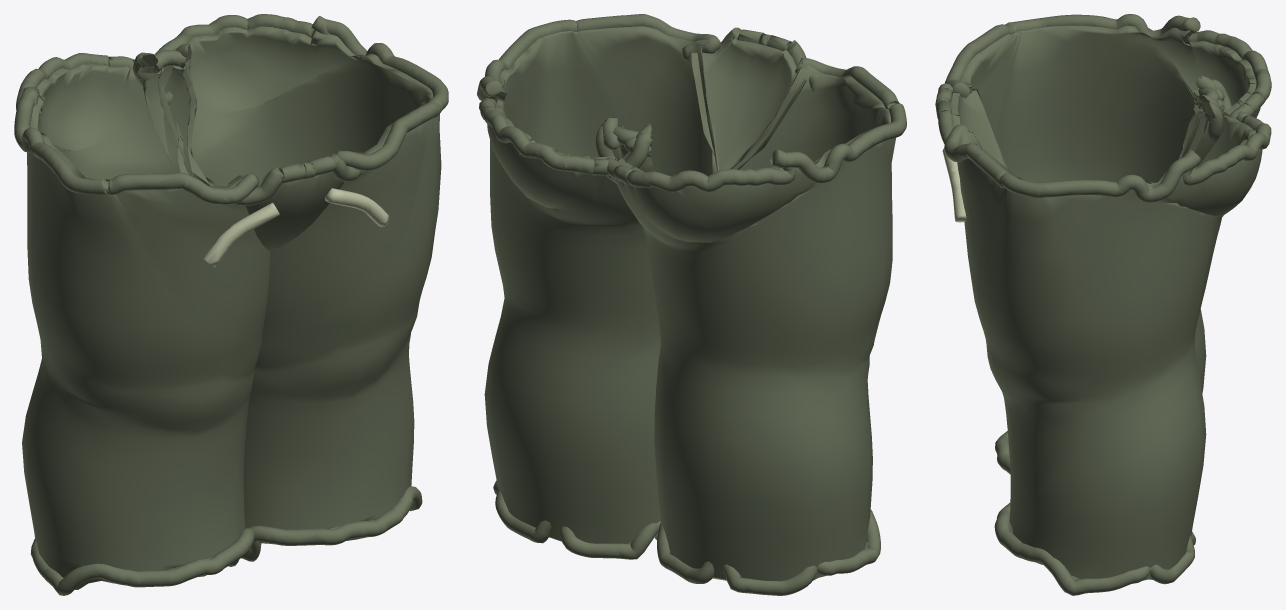
File: 3HT-feminino.glb
3 renders of one model, left to right at view 1: azimuth 30°, elevation 25°; view 2: azimuth 150°, elevation 25°; view 3: azimuth 270°, elevation 25°, orthographic. The views are drawn at different scales.
Visible parts, largest first — view 1: fitted-shell, bound-edge (×3), pocket--1, pocket-1; view 2: fitted-shell, bound-edge (×3); view 3: fitted-shell, bound-edge (×3), pocket-1.
Part boxes in pixels (left/top/right/bottom): fitted-shell: left=22, top=26, right=441, bottom=589; bound-edge (×3): left=14, top=14, right=448, bottom=595; pocket--1: left=203, top=203, right=279, bottom=267; pocket-1: left=324, top=188, right=389, bottom=226; fitted-shell: left=484, top=26, right=895, bottom=581; bound-edge (×3): left=477, top=14, right=906, bottom=595; fitted-shell: left=950, top=25, right=1262, bottom=580; bound-edge (×3): left=935, top=14, right=1271, bottom=595; pocket-1: left=942, top=148, right=966, bottom=222.
Bounding box in the file's own units: 0.0355 × 0.0415 × 0.0287.
